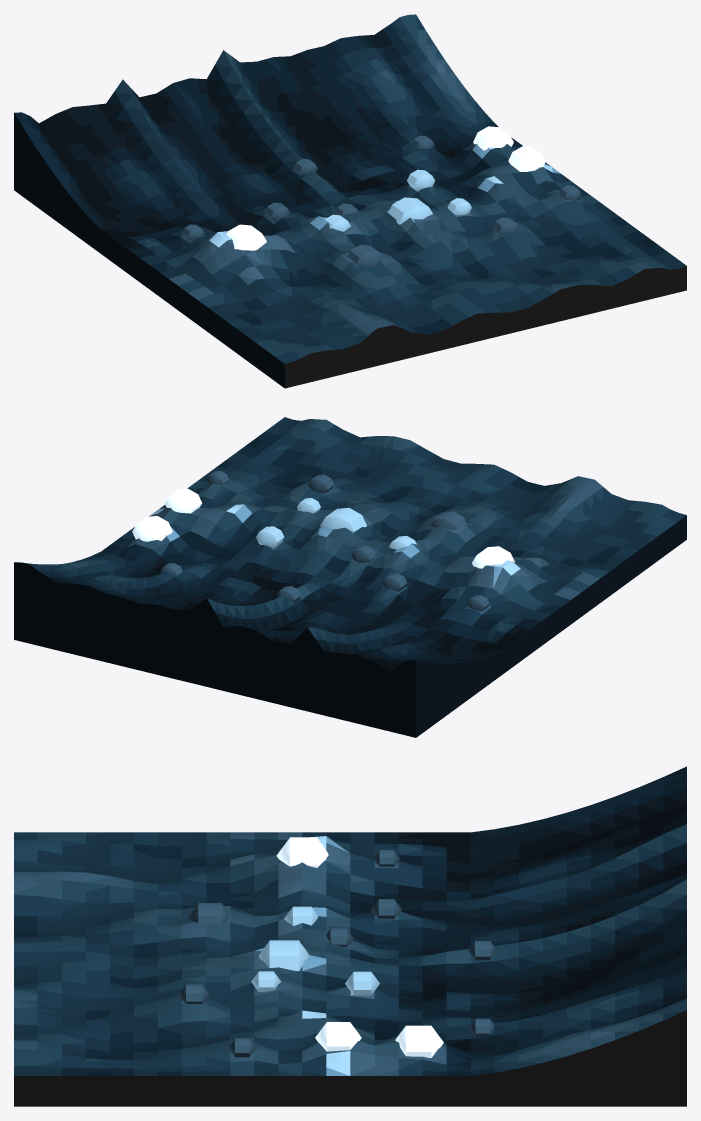
File: torm_fall_bm.glb
3 views of the same model, one above another, from view 1: azimuth 30°, elevation 25°; view 2: azimuth 150°, elevation 25°; view 3: azimuth 270°, elevation 25° (orthographic). The views are drawn at different scales.
Visible parts, largest first — view 1: torm_fall_bm_fall_body, torm_fall_bm_fall_foam53, torm_fall_bm_fall_foam49, torm_fall_bm_fall_foam45, torm_fall_bm_fall_foam36; view 2: torm_fall_bm_fall_body, torm_fall_bm_fall_foam36, torm_fall_bm_fall_foam53, torm_fall_bm_fall_foam45, torm_fall_bm_fall_foam49; view 3: torm_fall_bm_fall_body, torm_fall_bm_fall_foam36, torm_fall_bm_fall_foam49, torm_fall_bm_fall_foam53, torm_fall_bm_fall_foam45, torm_fall_bm_fall_foam60, torm_fall_bm_fall_foam44, torm_fall_bm_fall_foam52.
Part boxes in pixels (x1,y1,x2,y2): torm_fall_bm_fall_body: (14,14,686,388); torm_fall_bm_fall_foam53: (388,197,432,224); torm_fall_bm_fall_foam49: (226,224,266,250); torm_fall_bm_fall_foam45: (508,146,545,171); torm_fall_bm_fall_foam36: (473,126,513,150); torm_fall_bm_fall_body: (14,417,686,737); torm_fall_bm_fall_foam36: (132,516,172,541); torm_fall_bm_fall_foam53: (320,508,366,531); torm_fall_bm_fall_foam45: (164,488,202,513); torm_fall_bm_fall_foam49: (472,546,514,568); torm_fall_bm_fall_body: (14,766,686,1106); torm_fall_bm_fall_foam36: (395,1025,443,1057); torm_fall_bm_fall_foam49: (276,837,328,867); torm_fall_bm_fall_foam53: (259,940,308,971); torm_fall_bm_fall_foam45: (315,1022,361,1051); torm_fall_bm_fall_foam60: (186,903,228,925); torm_fall_bm_fall_foam44: (345,971,379,995); torm_fall_bm_fall_foam52: (284,906,318,925).
Bounding box in the file's own units: 23.98 × 5.08 × 27.98.
